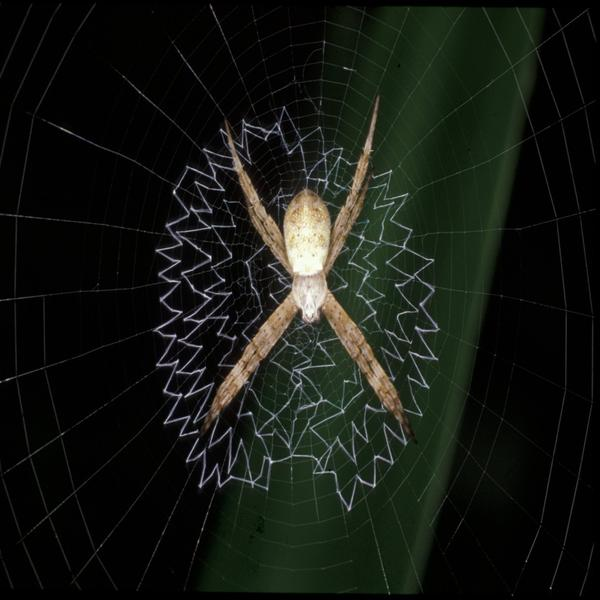St Andrew's Cross Spider: (205, 120, 416, 430)
